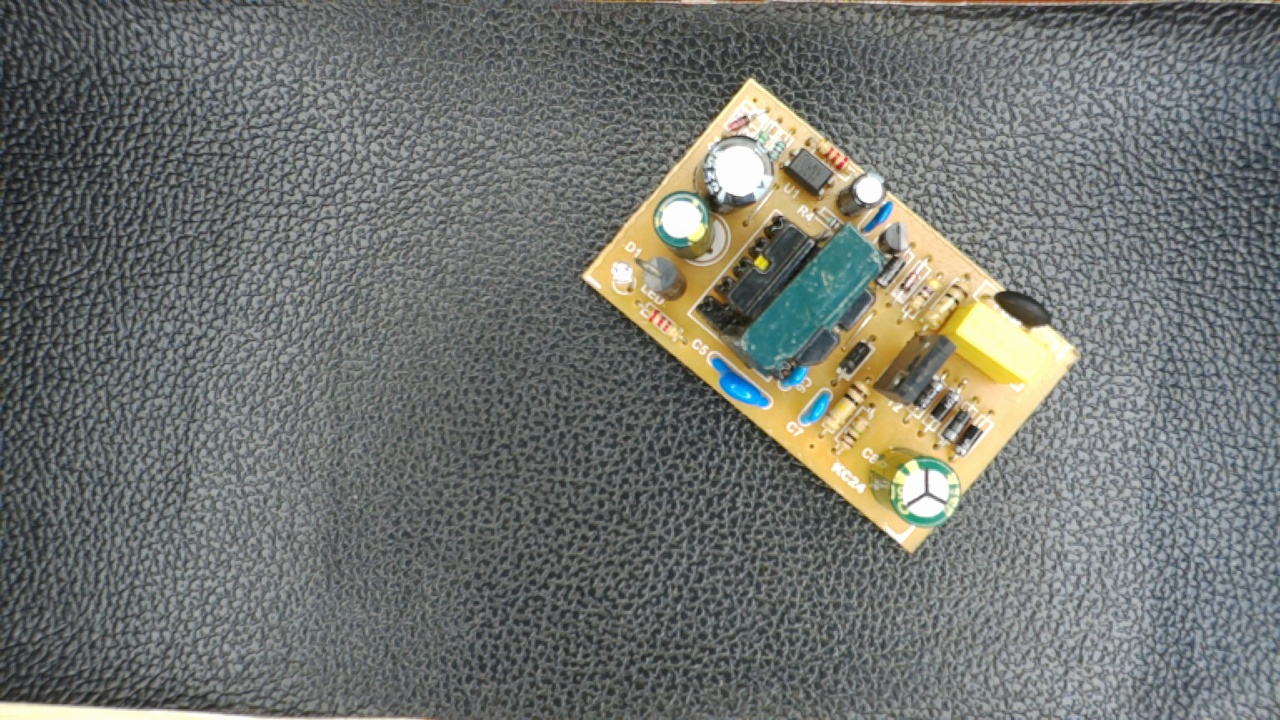fuse: (995, 284, 1058, 336)
hv_capacitor: (864, 444, 963, 525)
mov: (708, 353, 776, 414)
optocoupler: (779, 140, 842, 201)
